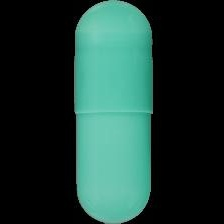58118-4001: (0, 0, 224, 224)
